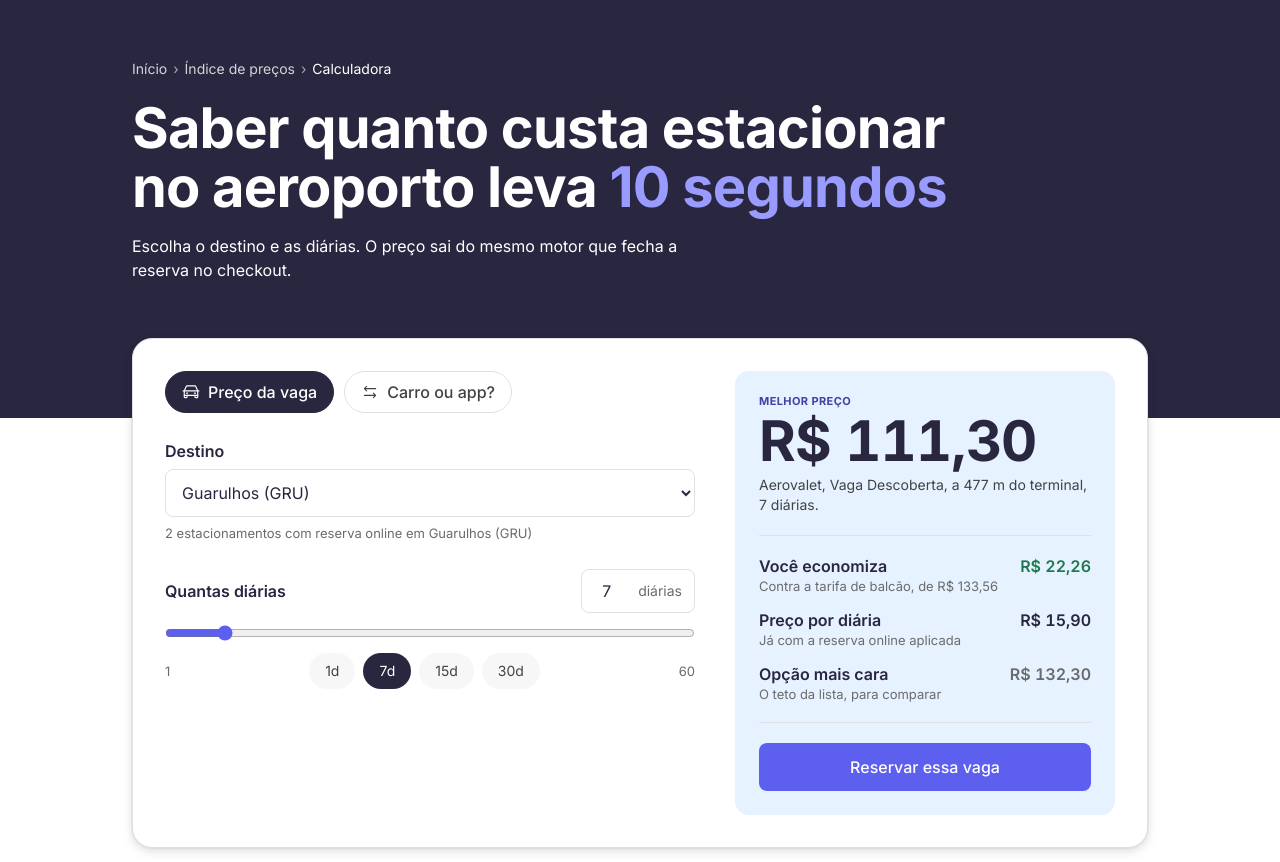
CalculadoraPage › a corrida manual sobrepõe a estimativa e pode virar o jogo
This screenshot has width=1280, height=862.
Click the radio button labelled "Carro ou app?" at (428, 392), box [344, 371, 512, 413]
(page scrolled)
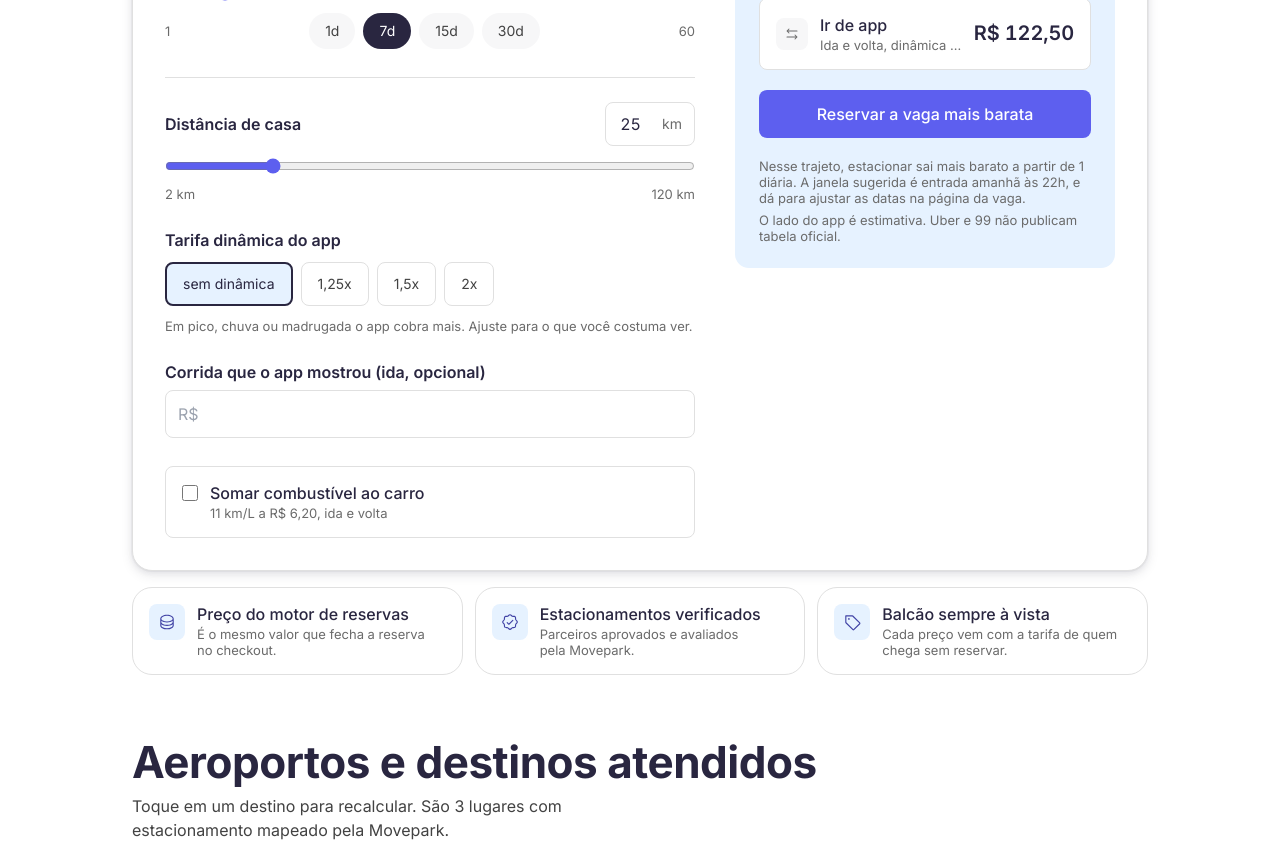
Type "40" into the field named "Valor da corrida de ida" at (430, 414), box [165, 390, 695, 438]
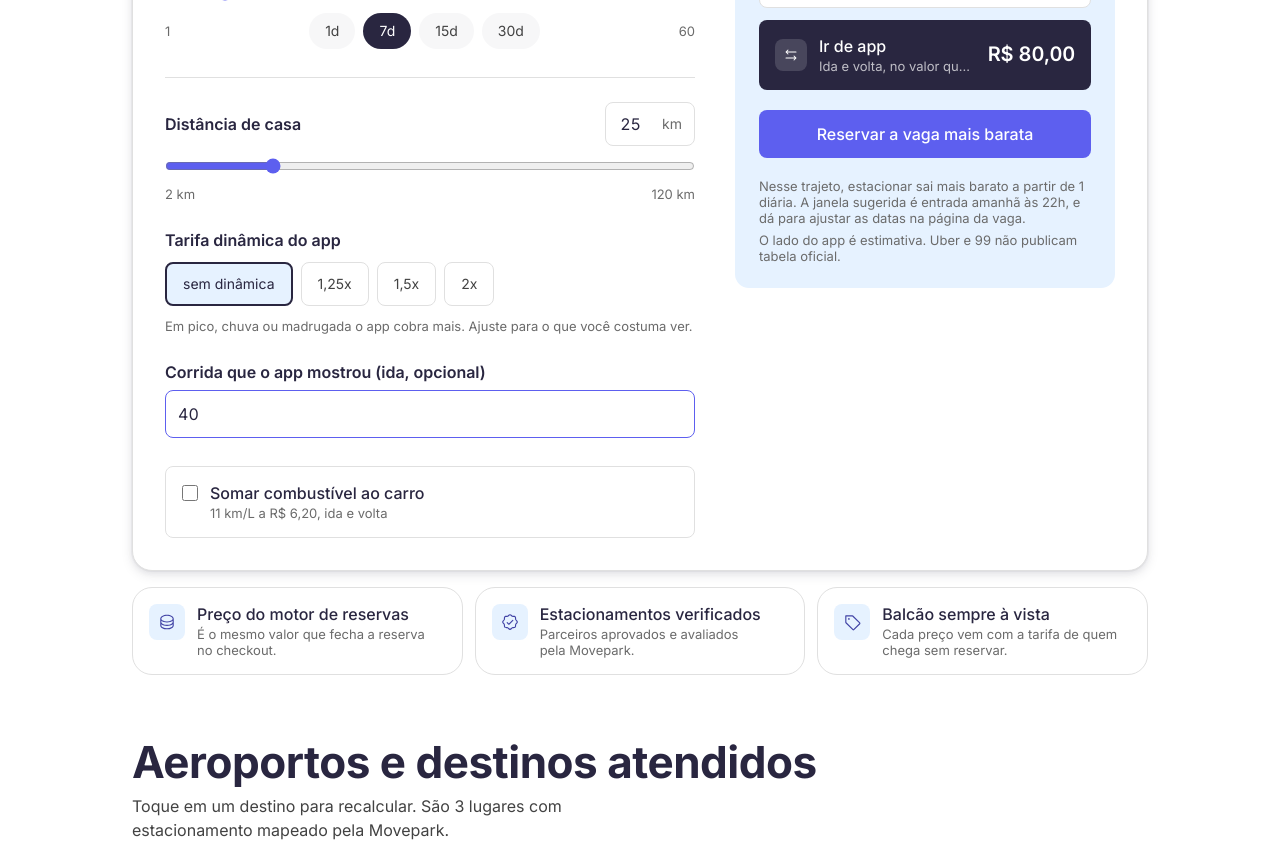
Expected: the text "Ida e volta, no valor que você informou" is shown, [819, 58, 976, 74]
